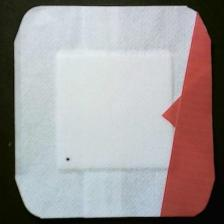Dressing: (11, 4, 218, 218)
F_Body: (60, 152, 76, 169)
Red_T: (157, 7, 219, 219)
